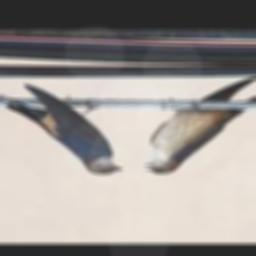Swallow: (0, 79, 123, 175), (144, 77, 256, 173)
